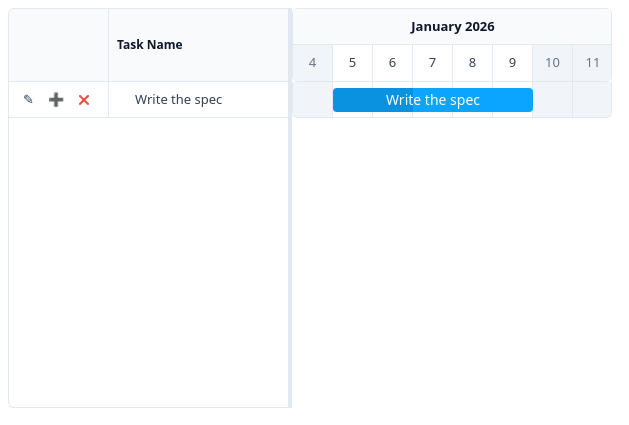
Test: bar tooltip slot › does not open from the row, only from the bar
Hover over the row "Write the spec" at (433, 100), box x1=333 y1=88 x2=533 y2=112
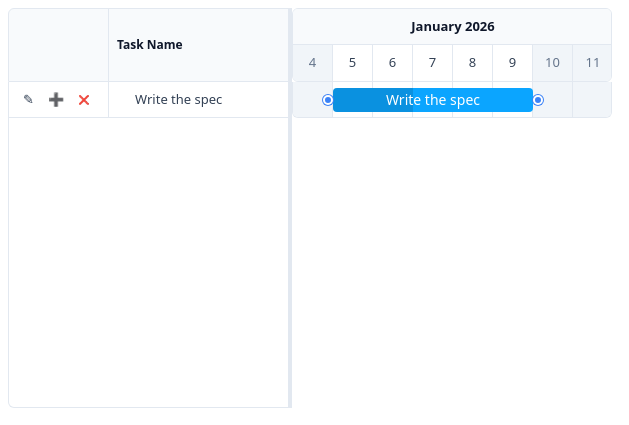
Hover over the cell with class "am-gantt-bar-task" at (433, 100), box x1=333 y1=88 x2=533 y2=112
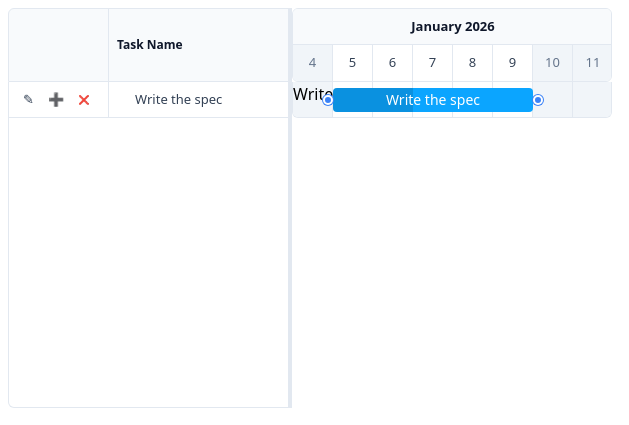
Check: the text with test id "probe" is shown, box x1=293 y1=83 x2=400 y2=105
